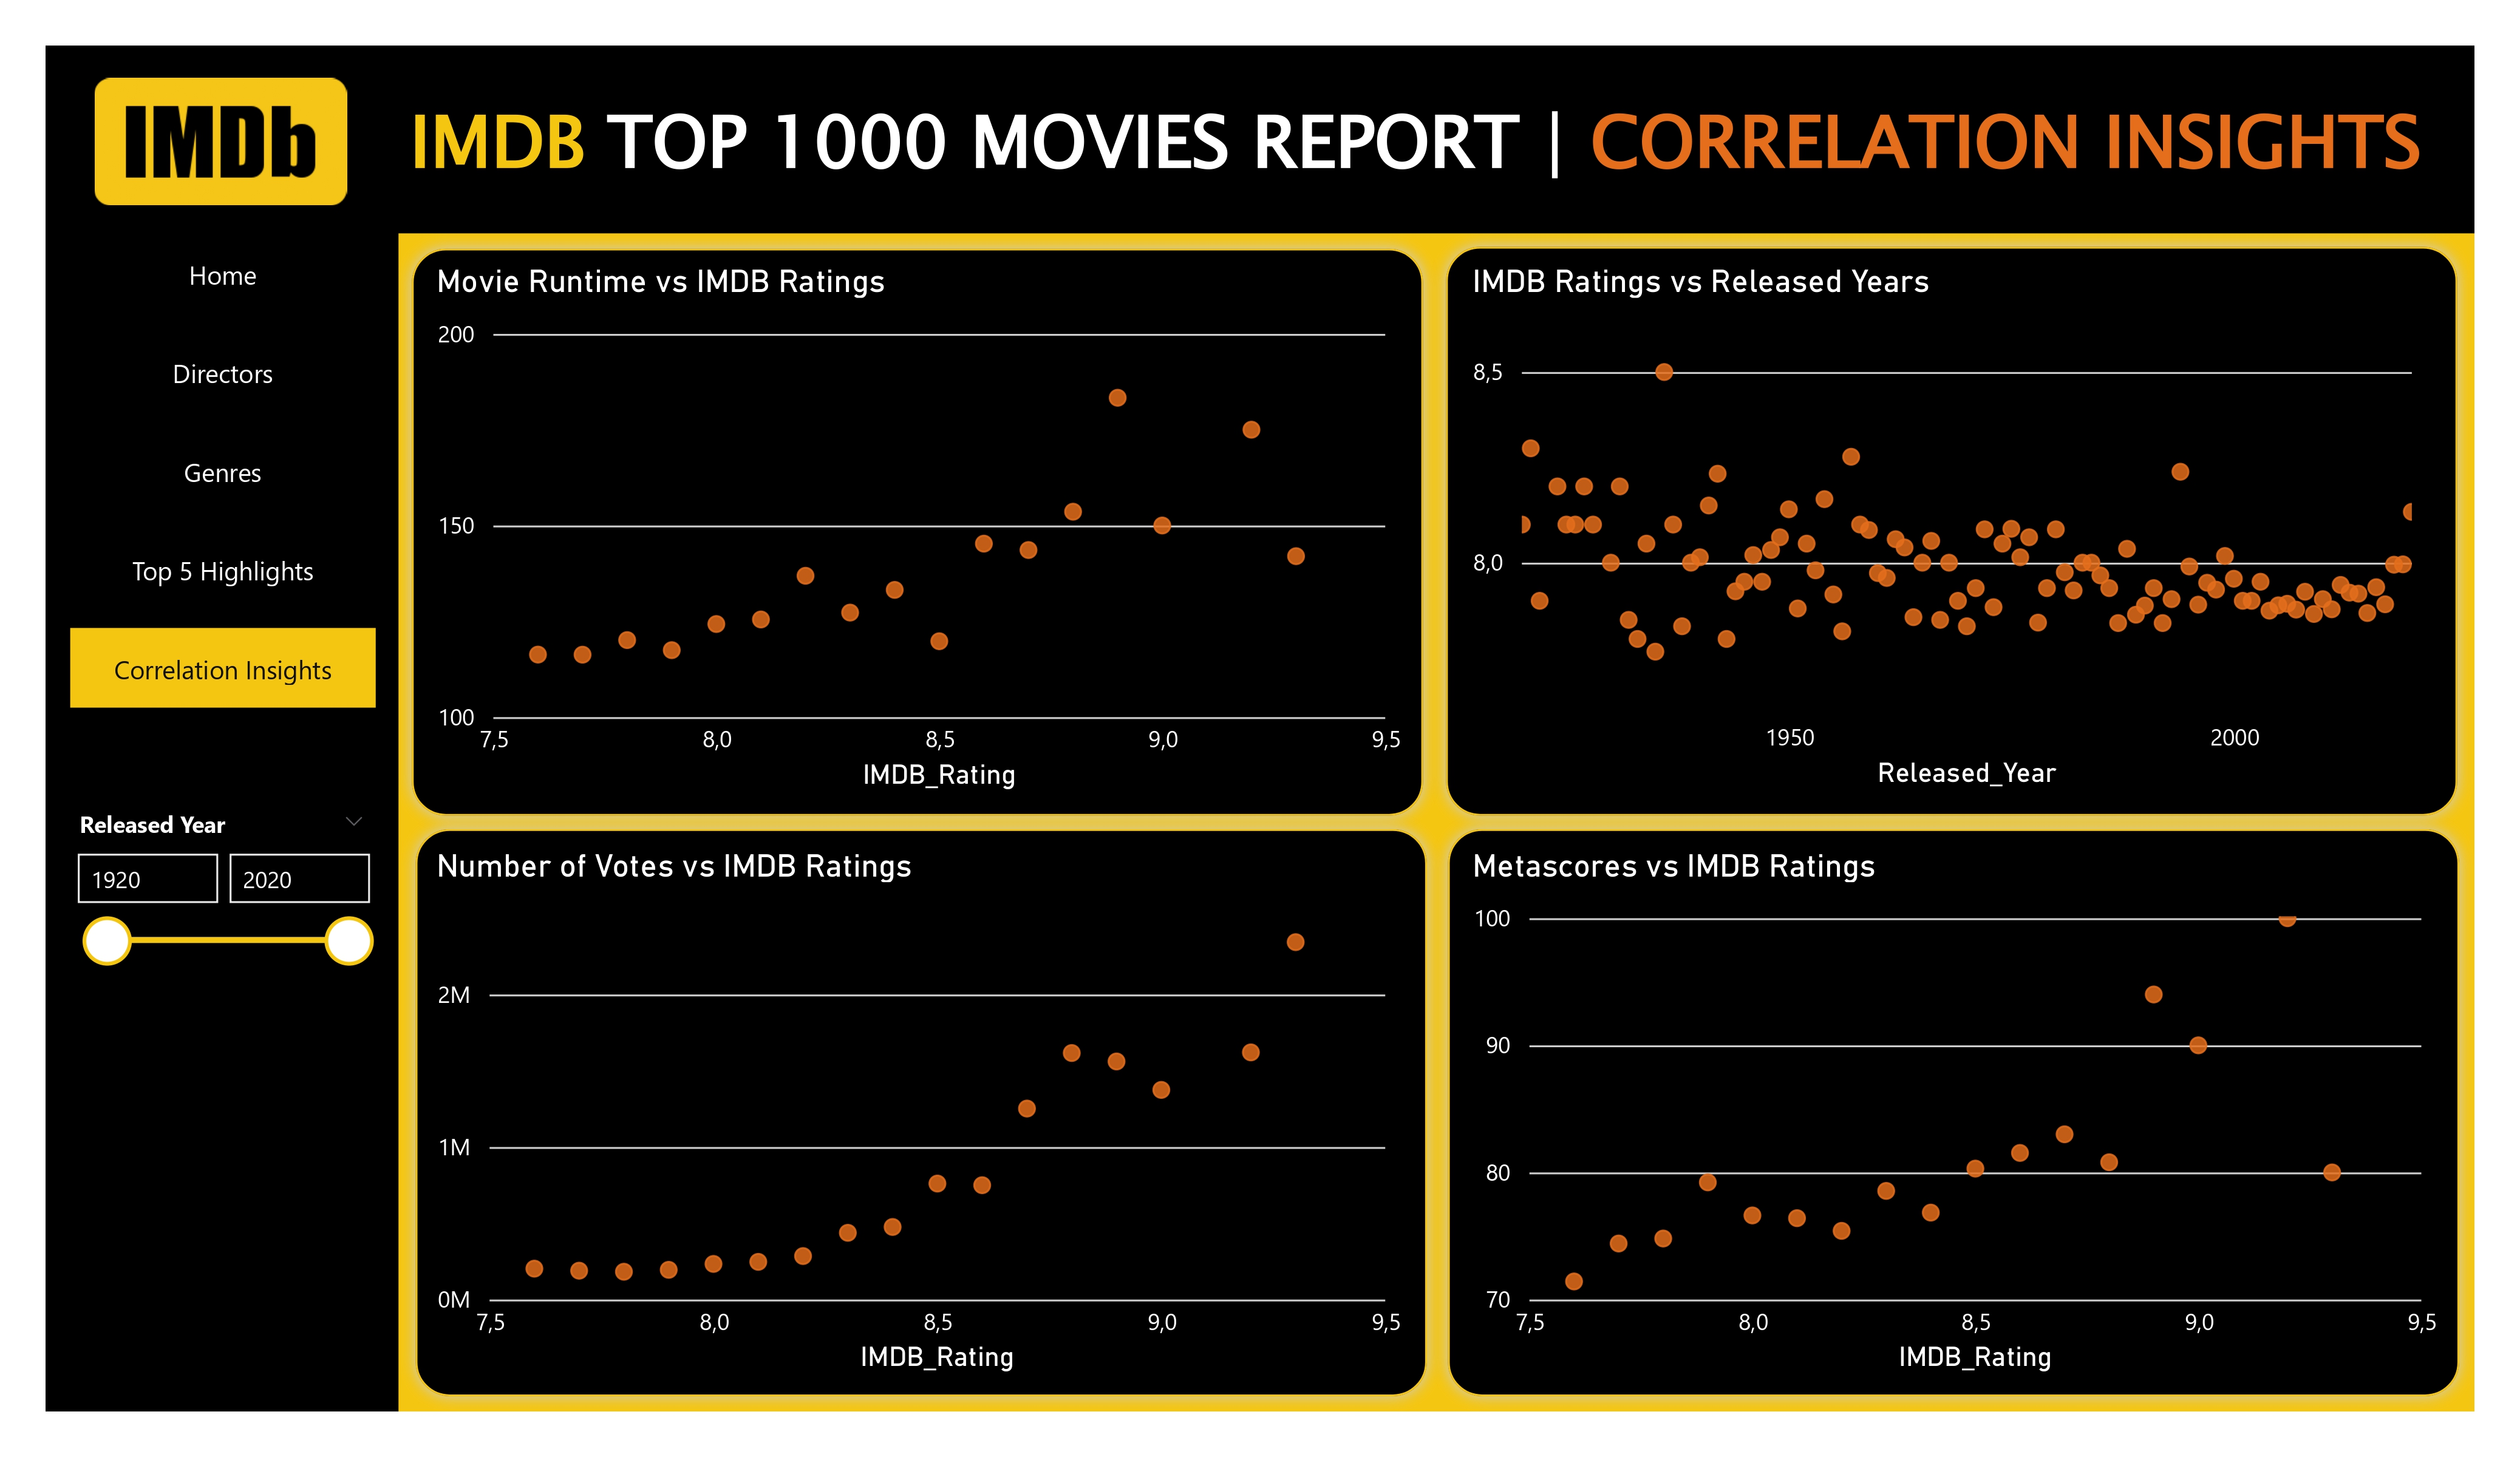

The page's visual inventory and layout, read from the dashboard file:
{"tool":"powerbi","page":{"name":"Correlation Insights","canvas":[1280,720],"ordinal":4},"visuals":[{"type":"shape","box":[185,99,549,315],"z":0},{"type":"shape","box":[187,405,549,315],"z":1000},{"type":"shape","box":[730,98,549,316],"z":2000},{"type":"shape","box":[731,405,549,315],"z":3000},{"type":"shape","box":[185.3,0,1095.1,99.3],"z":4000},{"type":"shape","box":[0,0,186.4,720],"z":5000},{"type":"textbox","box":[186.7,1,1093.3,98.4],"z":6000},{"type":"image","box":[21.3,12.4,142.8,76.3],"z":7000},{"type":"pageNavigator","box":[13,99,161,250],"z":8000},{"type":"slicer","fields":{"Values":["IMBD_Top_1000_Movies.Released_Year"]},"box":[4,396,177,104],"z":9000},{"type":"scatterChart","title":"Metascores vs IMDB Ratings","fields":{"X":["IMBD_Top_1000_Movies.IMDB_Rating"],"Y":["IMBD_Top_1000_Movies.Meta_score"]},"box":[747,422,518,282],"z":10000},{"type":"scatterChart","title":"Number of Votes vs IMDB Ratings","fields":{"X":["IMBD_Top_1000_Movies.IMDB_Rating"],"Y":["Avg(IMBD_Top_1000_Movies.Number_of_Votes)"]},"box":[201,422,518,282],"z":11000},{"type":"scatterChart","title":"IMDB Ratings vs Released Years","fields":{"X":["IMBD_Top_1000_Movies.Released_Year"],"Y":["IMBD_Top_1000_Movies.IMDB_Rating"]},"box":[747,114,518,282],"z":12000},{"type":"scatterChart","title":"Movie Runtime vs IMDB Ratings","fields":{"X":["IMBD_Top_1000_Movies.IMDB_Rating"],"Y":["Avg(IMBD_Top_1000_Movies.Runtime)"]},"box":[201,114,518,283],"z":13000}]}

Visuals, with their boxes in screenshot pixels (x1, y1, x2, y2):
shape: [left=397, top=233, right=1439, bottom=831]
shape: [left=400, top=814, right=1442, bottom=1411]
shape: [left=1431, top=231, right=2473, bottom=831]
shape: [left=1432, top=814, right=2474, bottom=1411]
shape: [left=397, top=46, right=2474, bottom=234]
shape: [left=46, top=46, right=400, bottom=1411]
textbox: [left=400, top=47, right=2474, bottom=234]
image: [left=86, top=69, right=357, bottom=214]
pageNavigator: [left=70, top=233, right=376, bottom=708]
slicer - IMBD_Top_1000_Movies.Released_Year: [left=53, top=796, right=389, bottom=994]
"Metascores vs IMDB Ratings" scatterChart: [left=1463, top=846, right=2446, bottom=1381]
"Number of Votes vs IMDB Ratings" scatterChart: [left=427, top=846, right=1410, bottom=1381]
"IMDB Ratings vs Released Years" scatterChart: [left=1463, top=262, right=2446, bottom=796]
"Movie Runtime vs IMDB Ratings" scatterChart: [left=427, top=262, right=1410, bottom=799]
